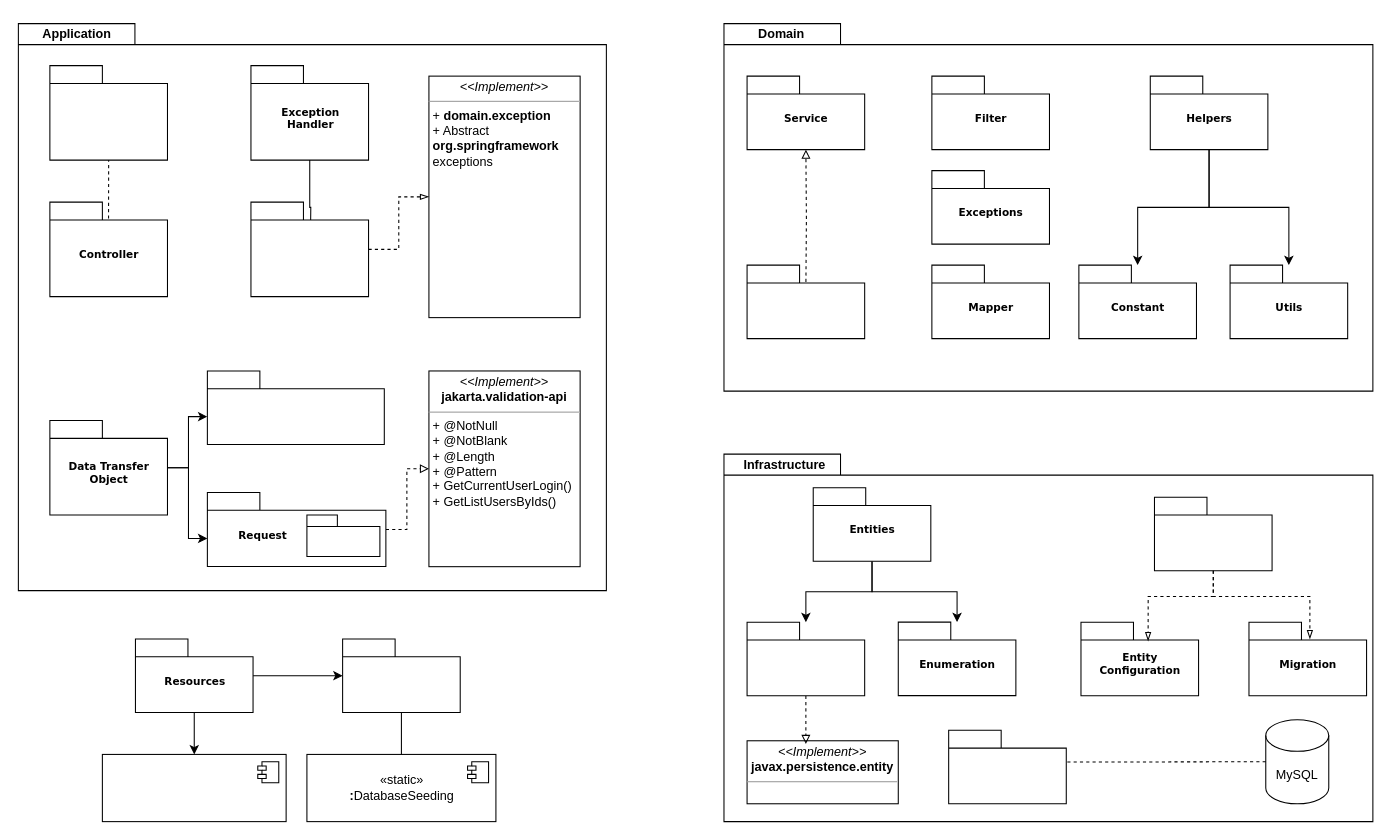
Some shapes in this 1391 by 840 pixel diagram are drawn without their labels. The shapes that lost their labels are listed below. From the top down, each one's centre as x and y in pixels, then its label:
(x=108, y=112): WEB API
(x=309, y=249): Global Exception Handler
(x=805, y=301): ServiceImpl
(x=295, y=407): Response
(x=343, y=535): Request Validators
(x=1212, y=533): Persistence
(x=401, y=675): Migration Configuration
(x=805, y=658): Entities Classes
(x=1007, y=766): Repository
(x=193, y=787): Application Configuration
